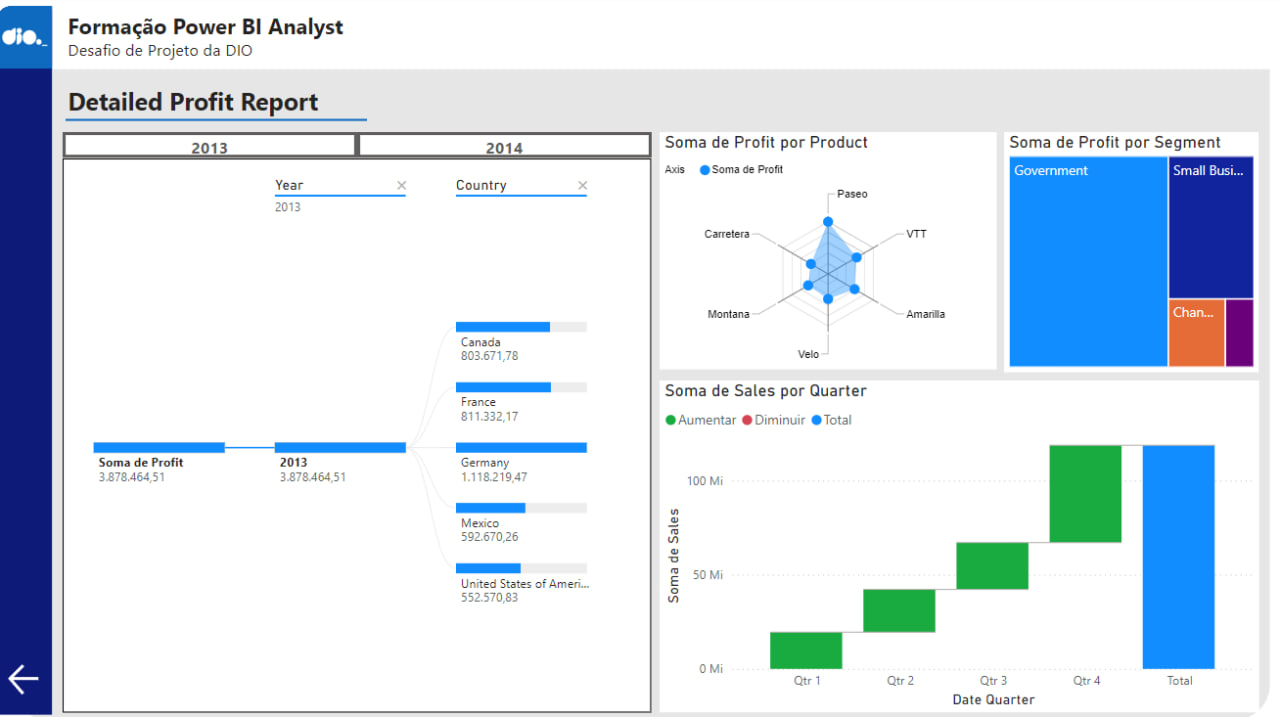

The page's visual inventory and layout, read from the dashboard file:
{"tool":"powerbi","page":{"name":"Page 2","canvas":[1280,720],"ordinal":1},"visuals":[{"type":"shape","box":[0,9.7,55,62.6],"z":0,"group":"g1"},{"type":"shape","title":"BackGround","box":[15.7,14.7,1249.5,705.3],"z":0},{"type":"image","title":"logo_DIO","box":[0,9.8,55,62.8],"z":1000,"group":"g1"},{"type":"shape","box":[0,10,55,705],"z":1000},{"type":"textbox","box":[64.8,82.5,332,47.2],"z":2000},{"type":"group","id":"g1","title":"Logo ","box":[0,9.7,55.4,62.2],"z":3000},{"type":"treemap","fields":{"Values":["Sum(financials.Profit)"],"Group":["financials.Segment"]},"box":[1001,135.6,253.4,238.7],"z":4000},{"type":"shape","box":[55.4,9.7,1221.6,63.2],"z":5000},{"type":"textbox","box":[64.8,9.8,325.2,65.8],"z":6000},{"type":"waterfallChart","fields":{"Category":["financials.Date.Variation.Date Hierarchy.Quarter"],"Y":["Sum(financials. Sales)"]},"box":[658.2,382.1,596.3,330.1],"z":7000},{"type":"decompositionTreeVisual","title":"Decomposition tree - 2013","fields":{"Analyze":["Sum(financials.Profit)"],"ExplainBy":["financials.Date.Variation.Date Hierarchy.Year","financials.Country"]},"box":[64.8,161.1,585.5,551.1],"z":8000},{"type":"RadarChart1446119667547","fields":{"Y":["Sum(financials.Profit)"],"Category":["financials.Product"]},"box":[658.2,135.6,335,235.8],"z":9000},{"type":"actionButton","title":"Button  - 2014","box":[64.8,135.6,292.7,25.5],"z":10000},{"type":"actionButton","title":"Button - 2013","box":[357.6,135.6,292.7,25.5],"z":11000},{"type":"shape","box":[67.8,116.9,299.6,12.8],"z":12000},{"type":"actionButton","box":[6.9,659.2,41.3,40.3],"z":13000}]}

Visuals, with their boxes on the page's 1280x720 design canvas (x1, y1, x2, y2). These are canvas units, not pixel positions in the 1280x717 screenshot, which may show the page scaled, cropped or inside an application window:
shape: bbox=[0, 10, 55, 72]
"BackGround" shape: bbox=[16, 15, 1265, 720]
"logo_DIO" image: bbox=[0, 10, 55, 73]
shape: bbox=[0, 10, 55, 715]
textbox: bbox=[65, 82, 397, 130]
"Logo " group: bbox=[0, 10, 55, 72]
treemap - Sum(financials.Profit) x financials.Segment: bbox=[1001, 136, 1254, 374]
shape: bbox=[55, 10, 1277, 73]
textbox: bbox=[65, 10, 390, 76]
waterfallChart - financials.Date.Variation.Date Hierarchy.Quarter x Sum(financials. Sales): bbox=[658, 382, 1254, 712]
"Decomposition tree - 2013" decompositionTreeVisual: bbox=[65, 161, 650, 712]
RadarChart1446119667547 - Sum(financials.Profit) x financials.Product: bbox=[658, 136, 993, 371]
"Button  - 2014" actionButton: bbox=[65, 136, 358, 161]
"Button - 2013" actionButton: bbox=[358, 136, 650, 161]
shape: bbox=[68, 117, 367, 130]
actionButton: bbox=[7, 659, 48, 700]
